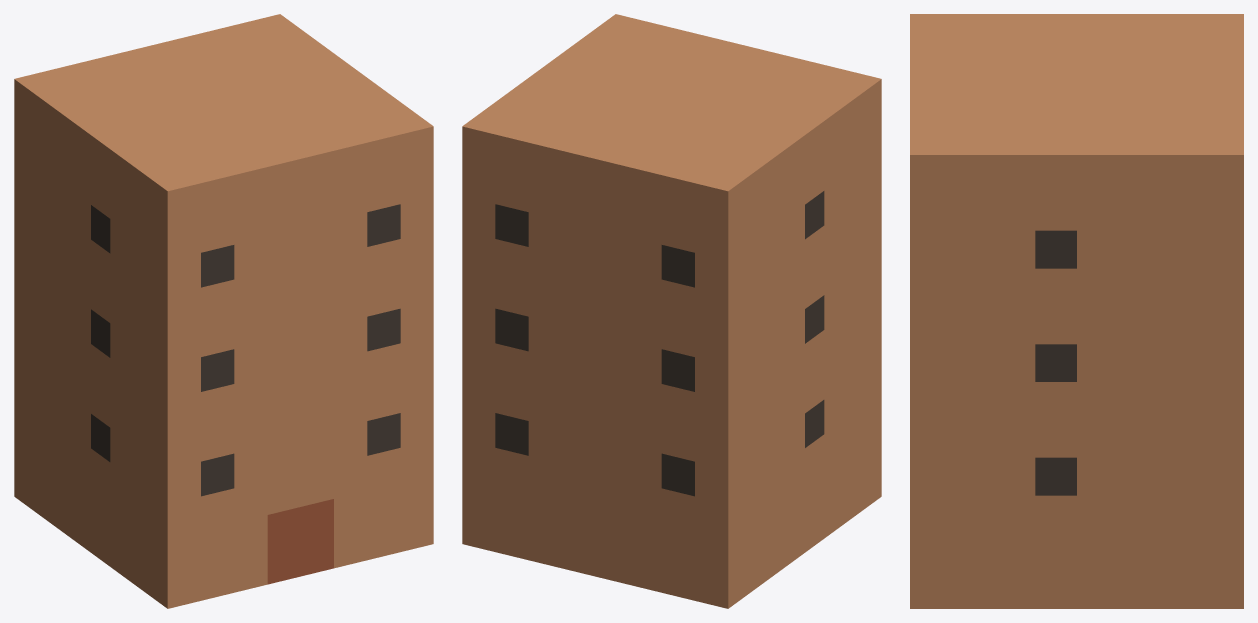
The model's file is flat.glb.
3 renders of one model, left to right at view 1: azimuth 30°, elevation 25°; view 2: azimuth 150°, elevation 25°; view 3: azimuth 270°, elevation 25°, orthographic. The views are drawn at different scales.
Parts seen in each view (by area): view 1: Plane; view 2: Plane; view 3: Plane.
Part boxes in pixels (x1,y1,x2,y2): Plane: (14, 14, 433, 608); Plane: (462, 14, 881, 608); Plane: (910, 14, 1243, 608).
Bounding box in the file's own units: 8 × 12 × 8.
